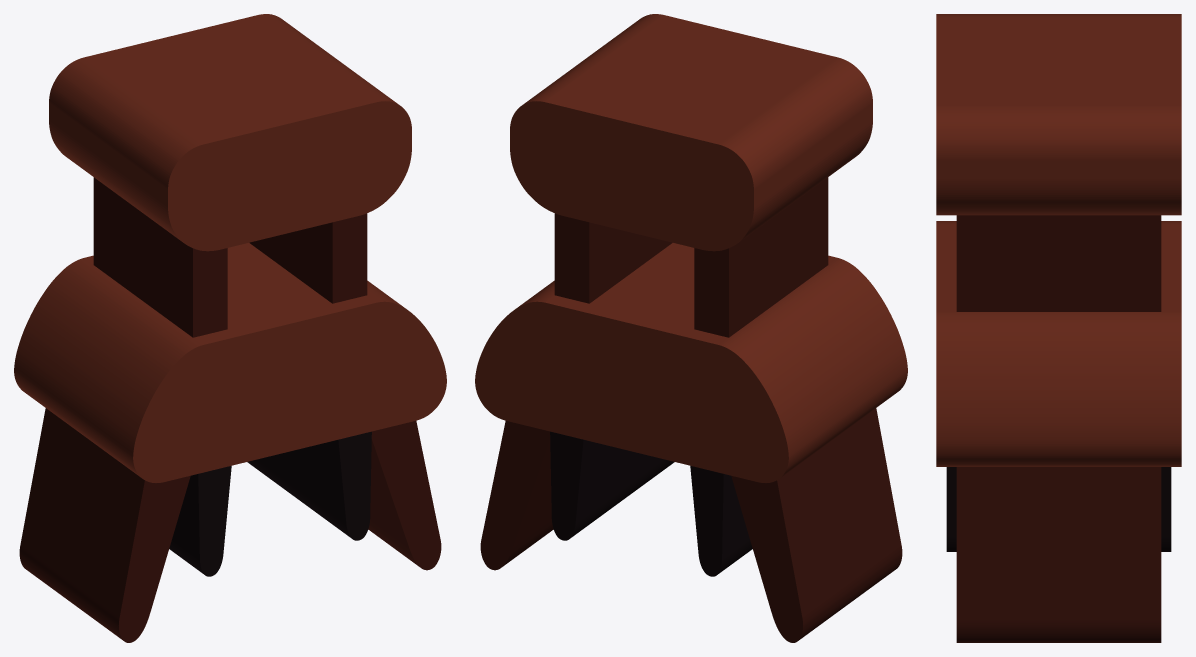
3 renders of one model, left to right at view 1: azimuth 30°, elevation 25°; view 2: azimuth 150°, elevation 25°; view 3: azimuth 270°, elevation 25°, orthographic. The views are drawn at different scales.
Parts seen in each view (by area): view 1: U+1FA91_layer02_obj00, U+1FA91_layer00_obj00, U+1FA91_layer01_obj00; view 2: U+1FA91_layer02_obj00, U+1FA91_layer00_obj00, U+1FA91_layer01_obj00; view 3: U+1FA91_layer02_obj00, U+1FA91_layer00_obj00, U+1FA91_layer01_obj00.
Boxes of the visible parts, x1,y1,x2,y2 form: U+1FA91_layer02_obj00: [14, 14, 446, 482]; U+1FA91_layer00_obj00: [19, 177, 441, 642]; U+1FA91_layer01_obj00: [169, 431, 371, 576]; U+1FA91_layer02_obj00: [475, 14, 907, 482]; U+1FA91_layer00_obj00: [480, 177, 902, 642]; U+1FA91_layer01_obj00: [550, 431, 752, 576]; U+1FA91_layer02_obj00: [936, 14, 1181, 466]; U+1FA91_layer00_obj00: [956, 215, 1161, 642]; U+1FA91_layer01_obj00: [946, 467, 1171, 551].
Bounding box in the file's own units: 0.3754 × 0.5451 × 0.24.
